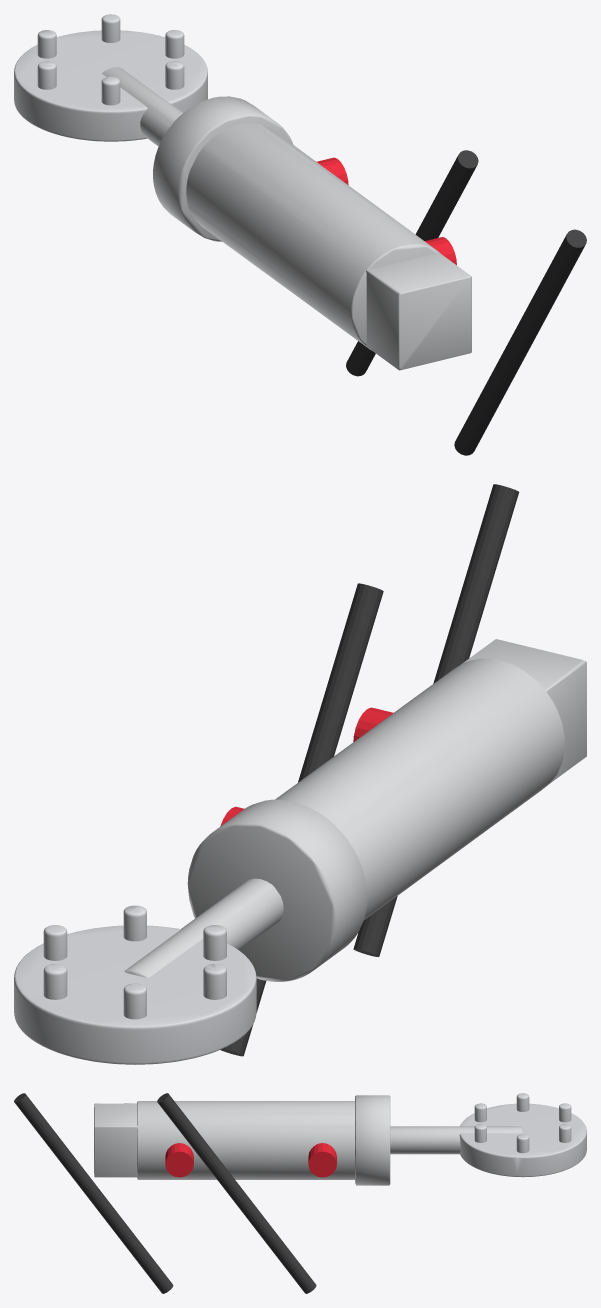
File: trans_shiftmechanism.glb
3 renders of one model, top to bottom at view 1: azimuth 30°, elevation 25°; view 2: azimuth 150°, elevation 25°; view 3: azimuth 270°, elevation 25°, orthographic. The views are drawn at different scales.
Visible parts, largest first — view 1: Shift_Cylinder_Body, Shift_Ratchet_Wheel, Pneumatic_Line_0, Pneumatic_Line_1; view 2: Shift_Cylinder_Body, Shift_Ratchet_Wheel, Pneumatic_Line_0, Pneumatic_Line_1; view 3: Shift_Cylinder_Body, Shift_Ratchet_Wheel, Pneumatic_Line_1, Pneumatic_Line_0, Banjo_Fitting_0, Banjo_Fitting_1.
Part boxes in pixels (x1,y1,x2,y2): Shift_Cylinder_Body: [102, 67, 471, 370]; Shift_Ratchet_Wheel: [14, 14, 207, 141]; Pneumatic_Line_0: [454, 229, 586, 455]; Pneumatic_Line_1: [346, 150, 478, 376]; Shift_Cylinder_Body: [124, 639, 586, 981]; Shift_Ratchet_Wheel: [14, 905, 256, 1064]; Pneumatic_Line_0: [353, 484, 519, 956]; Pneumatic_Line_1: [220, 583, 383, 1056]; Shift_Cylinder_Body: [94, 1095, 522, 1185]; Shift_Ratchet_Wheel: [459, 1093, 586, 1177]; Pneumatic_Line_1: [157, 1093, 316, 1293]; Pneumatic_Line_0: [14, 1093, 173, 1293]; Banjo_Fitting_0: [165, 1143, 193, 1177]; Banjo_Fitting_1: [308, 1143, 336, 1177].
Size of the model in its own units: 0.0947 by 0.1532 by 0.4005.
